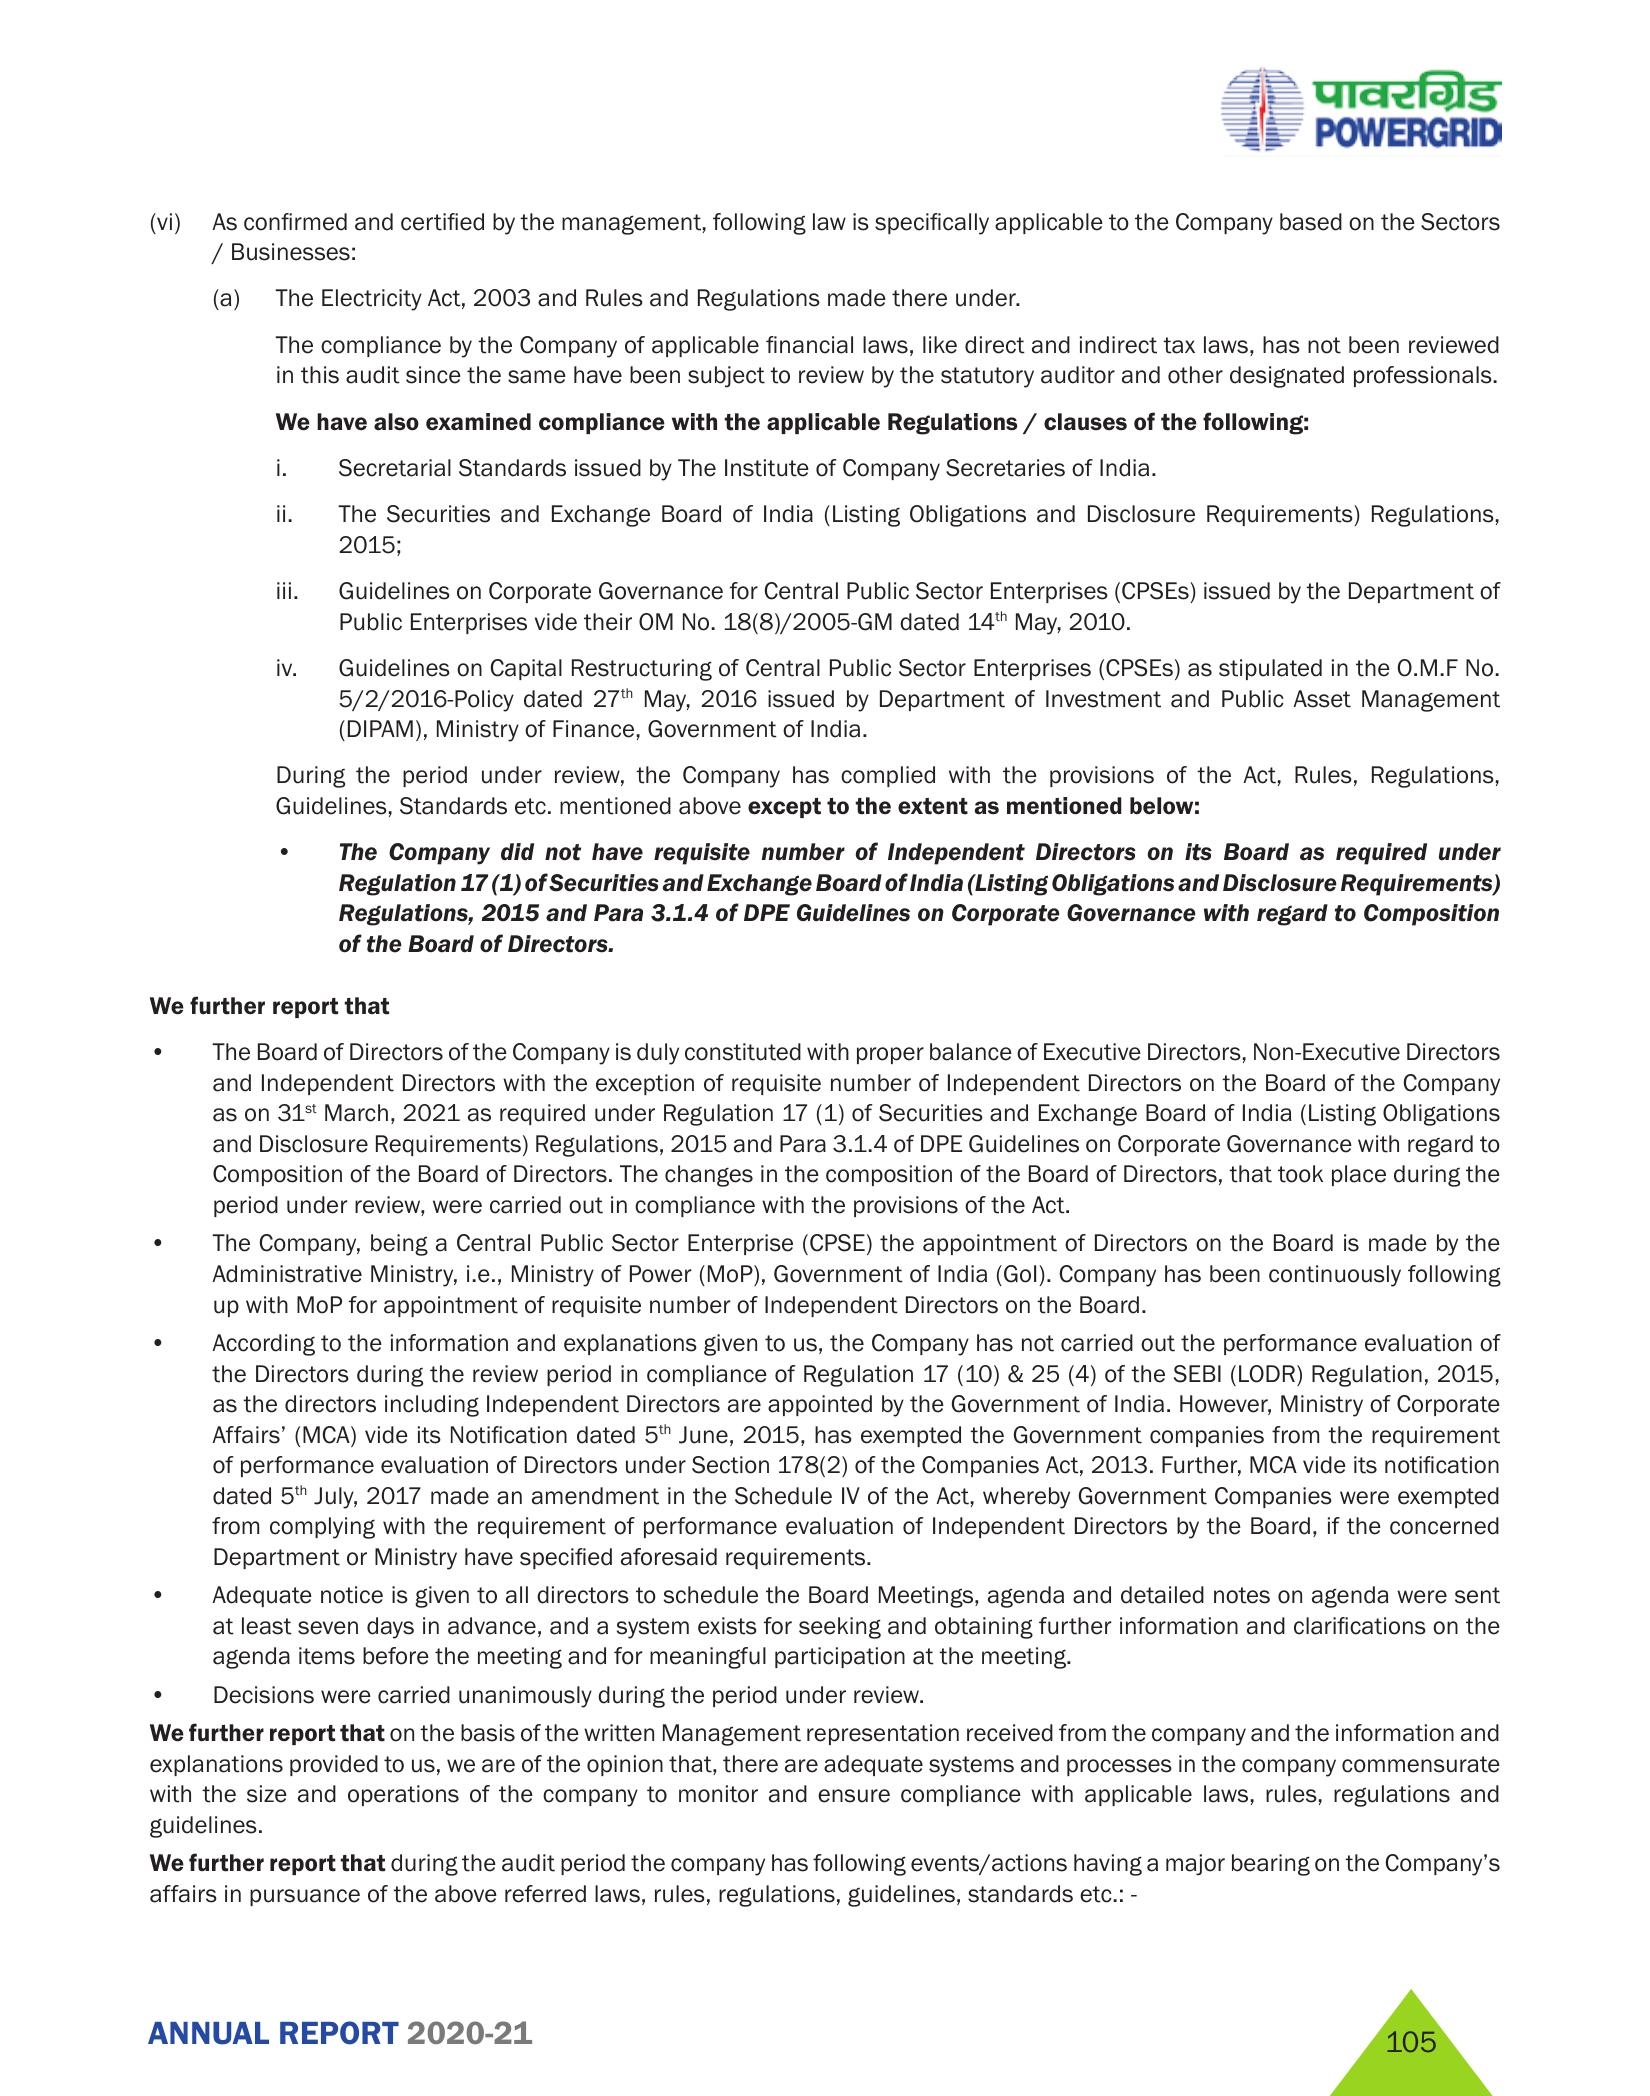Footer: (0, 1968, 1650, 2096)
Header: (0, 0, 1650, 184)
